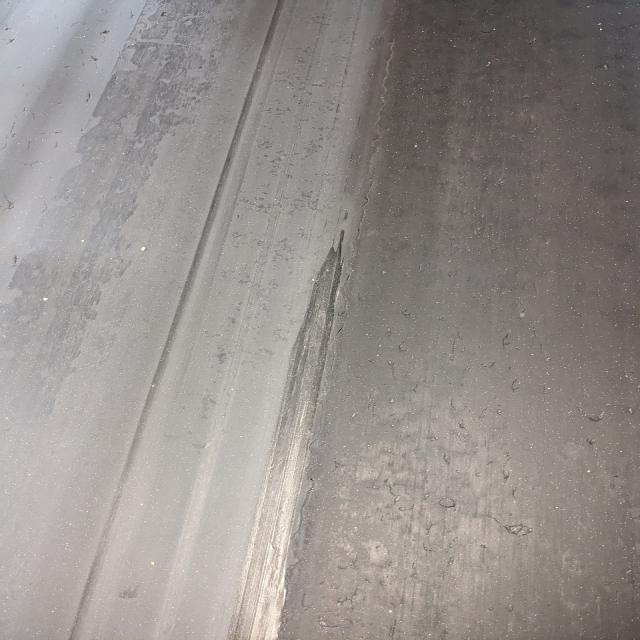Wear: (64, 0, 290, 638), (229, 225, 352, 640)
